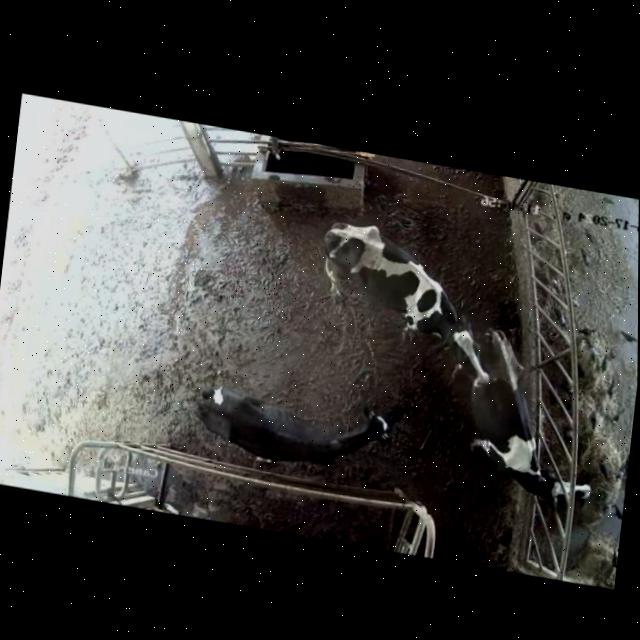eat: (522, 445, 621, 533)
propping: (428, 308, 523, 415)
stand: (161, 353, 413, 494)
